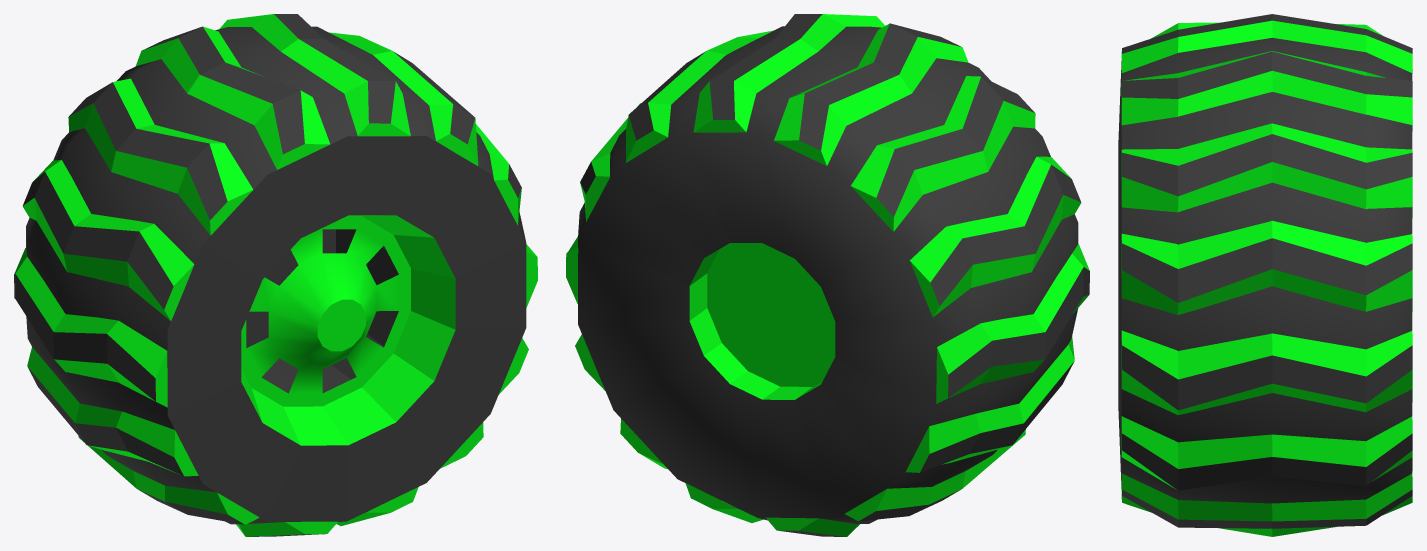
File: wheel.fbx
3 views of the same model, side by side, from view 1: azimuth 30°, elevation 25°; view 2: azimuth 150°, elevation 25°; view 3: azimuth 270°, elevation 25° (orthographic). The views are drawn at different scales.
Visible parts, largest first — view 1: lanot_wheel15_L; view 2: lanot_wheel15_L; view 3: lanot_wheel15_L.
Part boxes in pixels (x1,y1,x2,y2): lanot_wheel15_L: (14, 14, 537, 536); lanot_wheel15_L: (566, 14, 1089, 536); lanot_wheel15_L: (1118, 14, 1412, 536).
Size of the model in its own units: 152 by 152 by 85.57.
